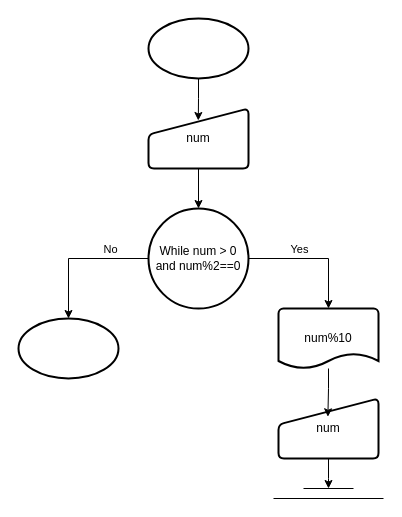
The diagram is 402 pixels wide and 517 high, and some of its shapes have lost their labels. Each missing label, with the centre of its shape:
Start: pixel 198 48
Stop: pixel 68 348
